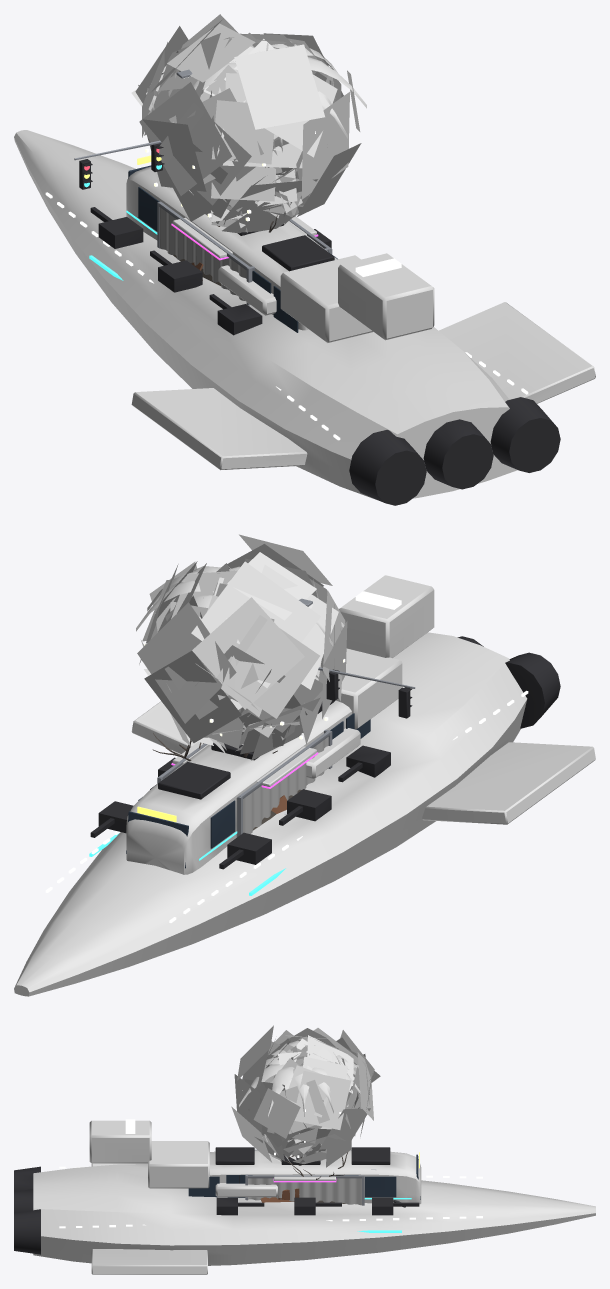
File: props.glb
3 renders of one model, top to bottom at view 1: azimuth 30°, elevation 25°; view 2: azimuth 150°, elevation 25°; view 3: azimuth 270°, elevation 25°, orthographic. The views are drawn at different scales.
Parts seen in each view (by area): view 1: ship_cruiser, tree_oak, bus, tree_slim, container, tree_palm, kiosk, traffic_light; view 2: ship_cruiser, tree_oak, bus, container, tree_slim, tree_palm, kiosk, traffic_light; view 3: ship_cruiser, tree_oak, bus, container, tree_palm, tree_slim, kiosk.
Boxes of the visible parts, x1,y1,x2,y2 form: ship_cruiser: (14,130,595,505); tree_oak: (131,14,361,220); bus: (126,155,337,332); tree_slim: (173,166,310,233); container: (157,201,332,305); tree_palm: (158,41,366,155); kiosk: (171,216,318,260); traffic_light: (74,140,164,189); ship_cruiser: (14,575,595,996); tree_oak: (137,534,347,758); bus: (126,700,370,874); container: (157,729,332,837); tree_slim: (170,665,322,760); tree_palm: (136,566,344,645); kiosk: (171,742,318,788); traffic_light: (318,667,415,718); ship_cruiser: (14,1119,595,1274); tree_oak: (231,1025,380,1162); bus: (188,1147,421,1204); container: (245,1149,364,1205); tree_palm: (239,1040,360,1116); tree_slim: (262,1126,352,1167); kiosk: (273,1174,336,1182).
Bounding box in the file's own units: 14.62 × 11.92 × 30.
